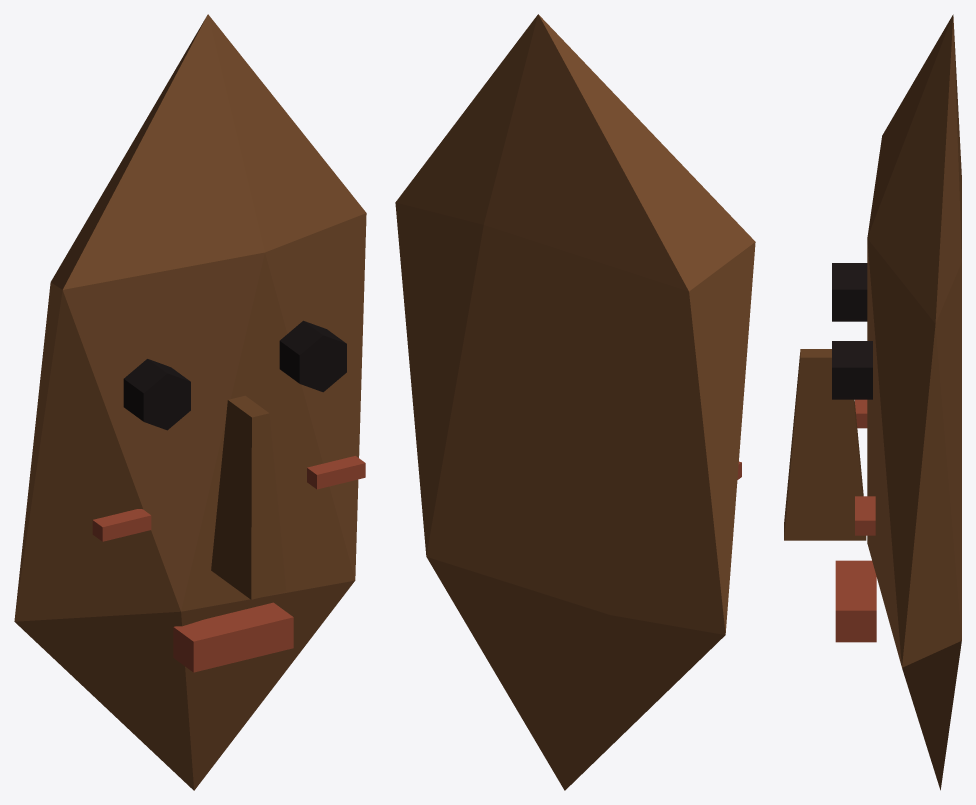
Rendered from wall-mask-05.glb.
3 views of the same model, side by side, from view 1: azimuth 30°, elevation 25°; view 2: azimuth 150°, elevation 25°; view 3: azimuth 270°, elevation 25° (orthographic). The views are drawn at different scales.
Parts seen in each view (by area): view 1: wall_mask_05; view 2: wall_mask_05; view 3: wall_mask_05.
Part boxes in pixels (<box>): wall_mask_05: <box>14,14,366,790</box>; wall_mask_05: <box>395,14,755,790</box>; wall_mask_05: <box>784,14,961,790</box>.
Bounding box in the file's own units: 0.1953 × 0.4221 × 0.0865.
